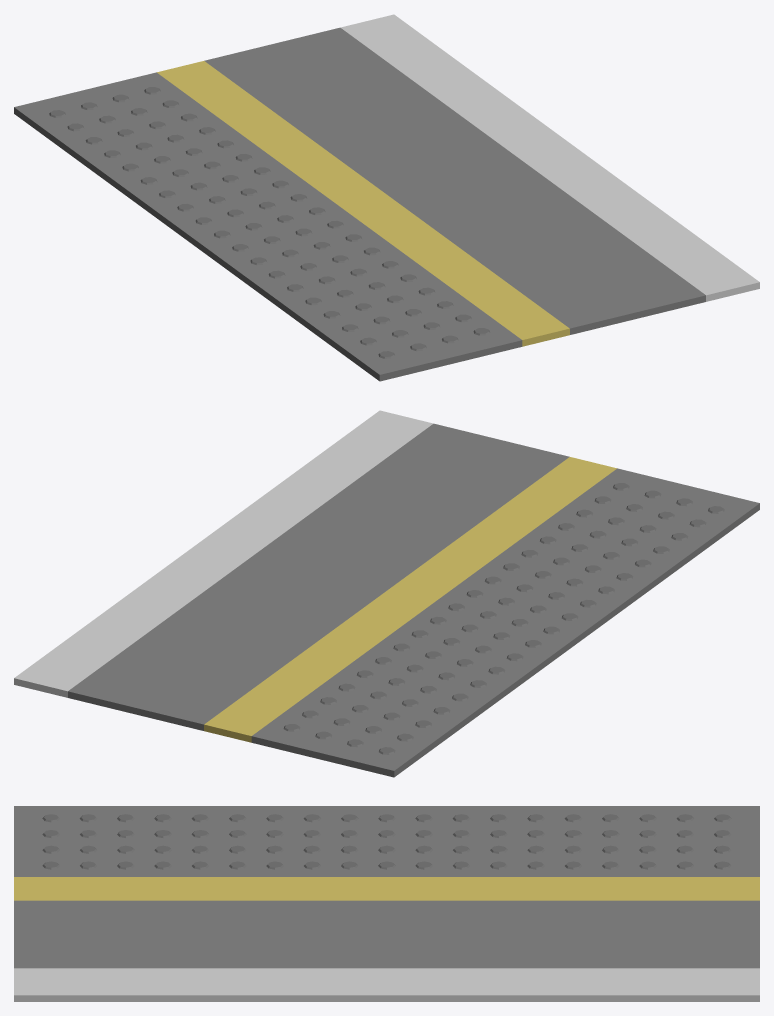
The model's file is Subway Lines.fbx.
The picture shows the model from 3 angles, top to bottom: view 1: azimuth 30°, elevation 25°; view 2: azimuth 150°, elevation 25°; view 3: azimuth 270°, elevation 25°; orthographic projection.
Visible parts, largest first — view 1: Subway Lines; view 2: Subway Lines; view 3: Subway Lines.
Part boxes in pixels (x1,y1,x2,y2): Subway Lines: (14,14,759,381); Subway Lines: (14,410,759,777); Subway Lines: (14,806,759,1001).
Bounding box in the file's own units: 600 × 12 × 1000.
